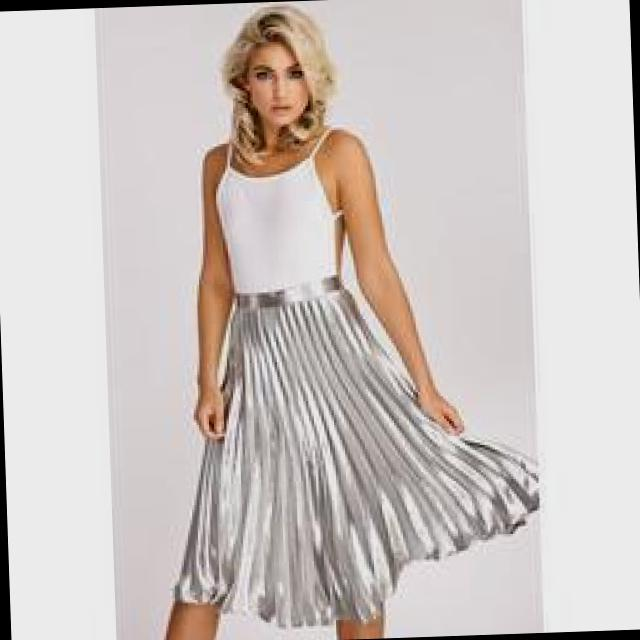Tshirt: (212, 127, 350, 294)
skirt: (164, 268, 540, 630)
